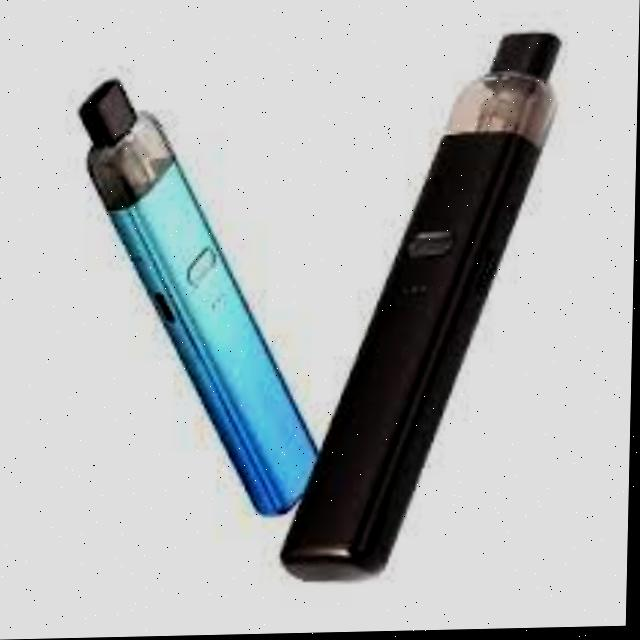vape: (281, 33, 562, 584), (70, 74, 329, 525)
